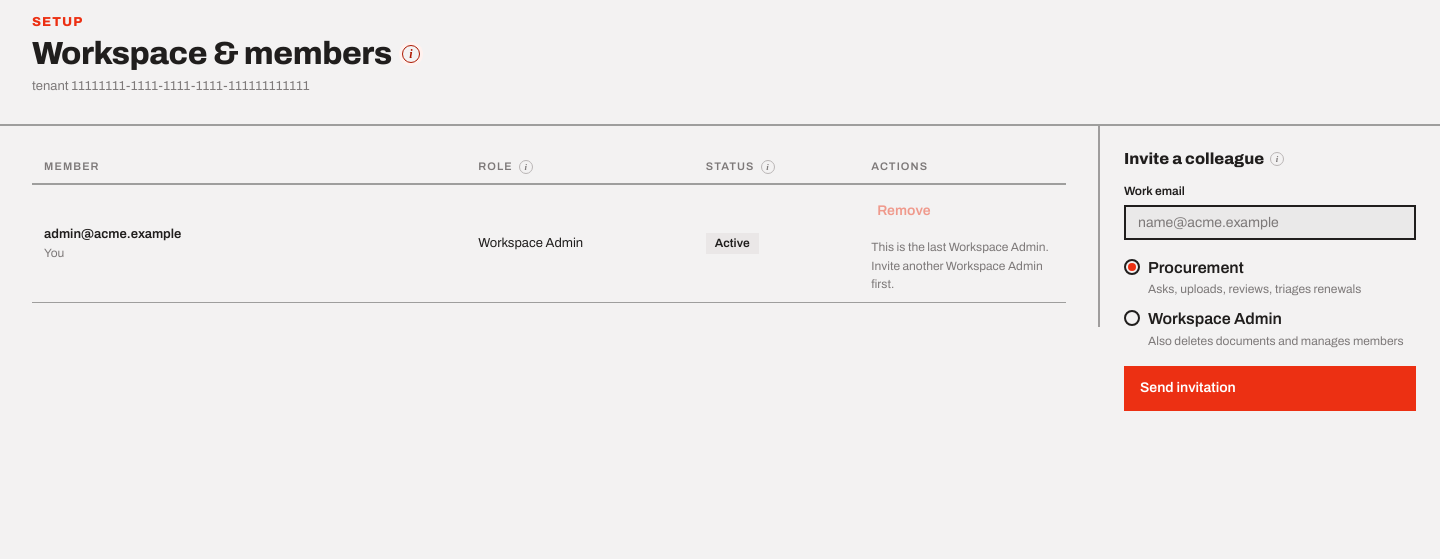
Test: MembersRoute (V2, ADR-020/ADR-025/ADR-026 w14 footers; screens-v2.md #10) › an empty second click keeps the last accept link instead of wiping it
This screenshot has width=1440, height=559.
Expected: the table is shown, [32, 150, 1066, 303]
Type "buyer@acme.example" into the field labelled "Work email". click: [1270, 222]
box: [1124, 205, 1416, 240]
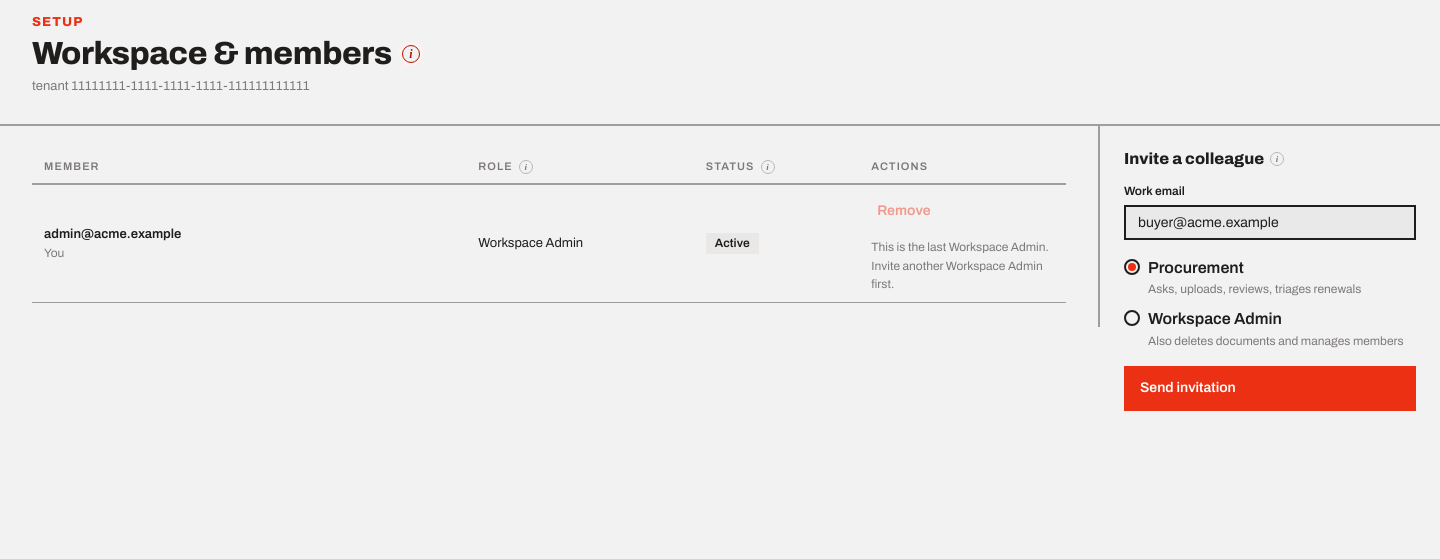
Click the button "Send invitation". click: [1188, 388]
box: [1124, 366, 1416, 411]
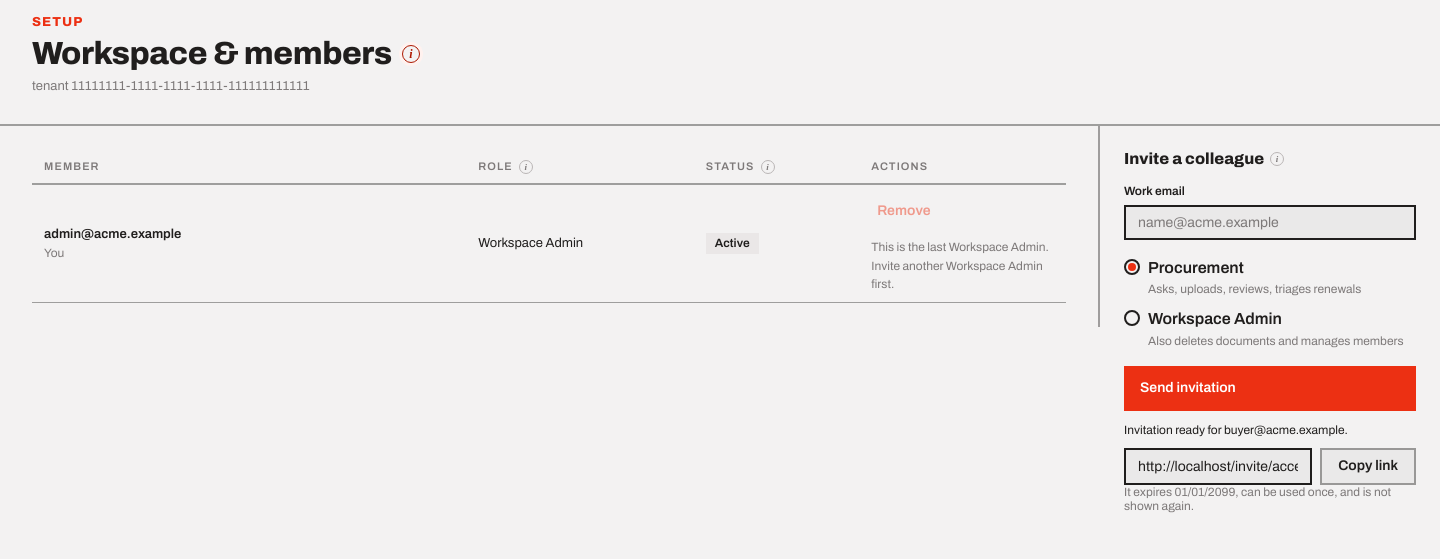
Now the field named "Invitation link" is shown, box [1124, 448, 1312, 485]
Click the button "Send invitation". click: [1188, 388]
box: [1124, 366, 1416, 411]
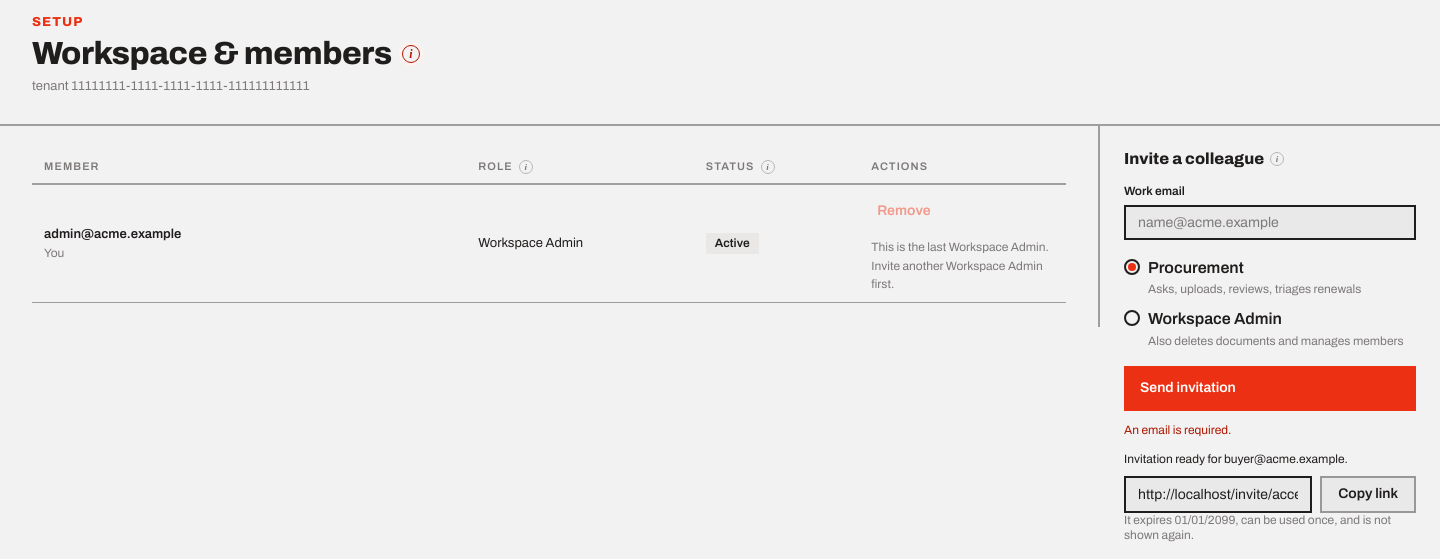
Now the field named "Invitation link" is shown, box [1124, 476, 1312, 513]
Now the message "An email is required." is shown, box [1124, 423, 1231, 437]
